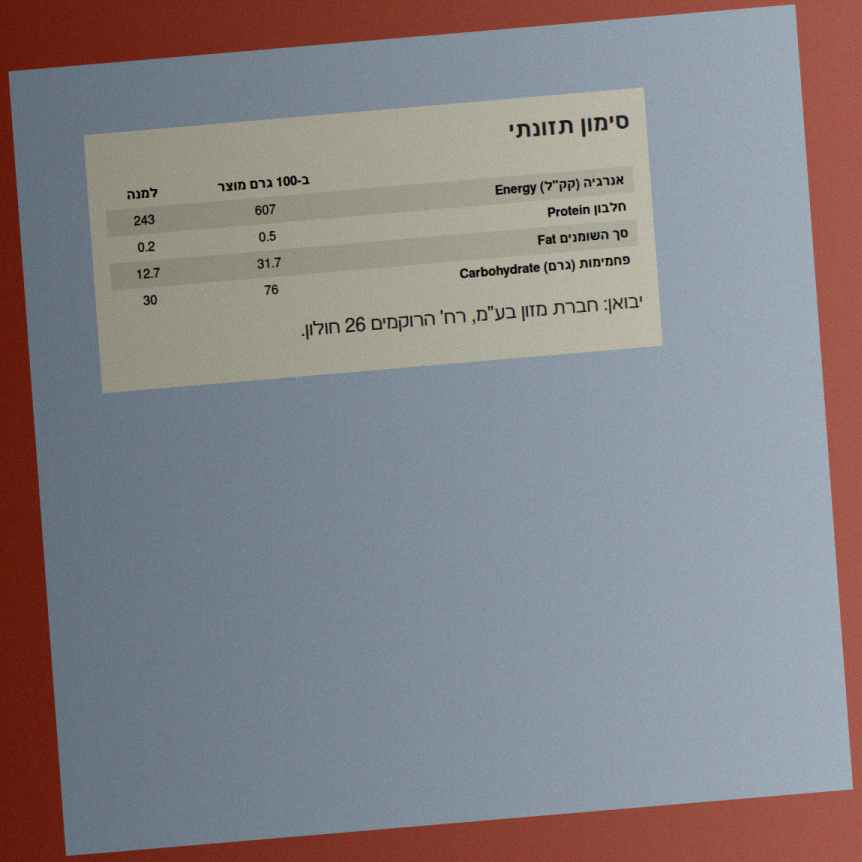carbs: (262, 282, 281, 299)
energy: (253, 202, 278, 219)
fat: (255, 255, 284, 273)
protein: (257, 228, 278, 246)
